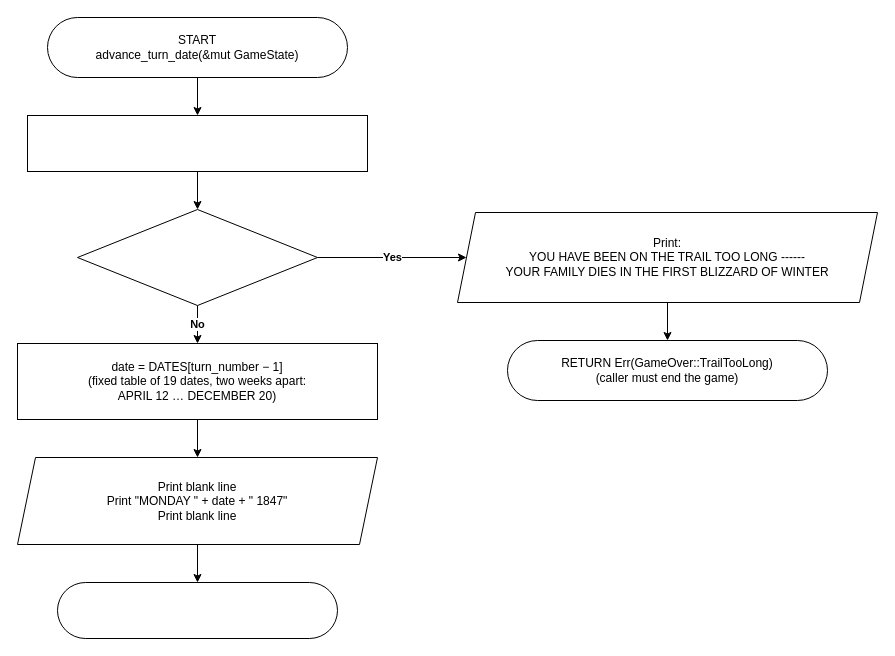
This 895x656 diagram has some shape labels left out. Each missing label, with the centre of its shape:
"RETURN Ok (game continues)" goes at (197,610).
"turn_number = turn_number + 1" goes at (197,143).
"turn_number reached 20 ?" goes at (197,257).
